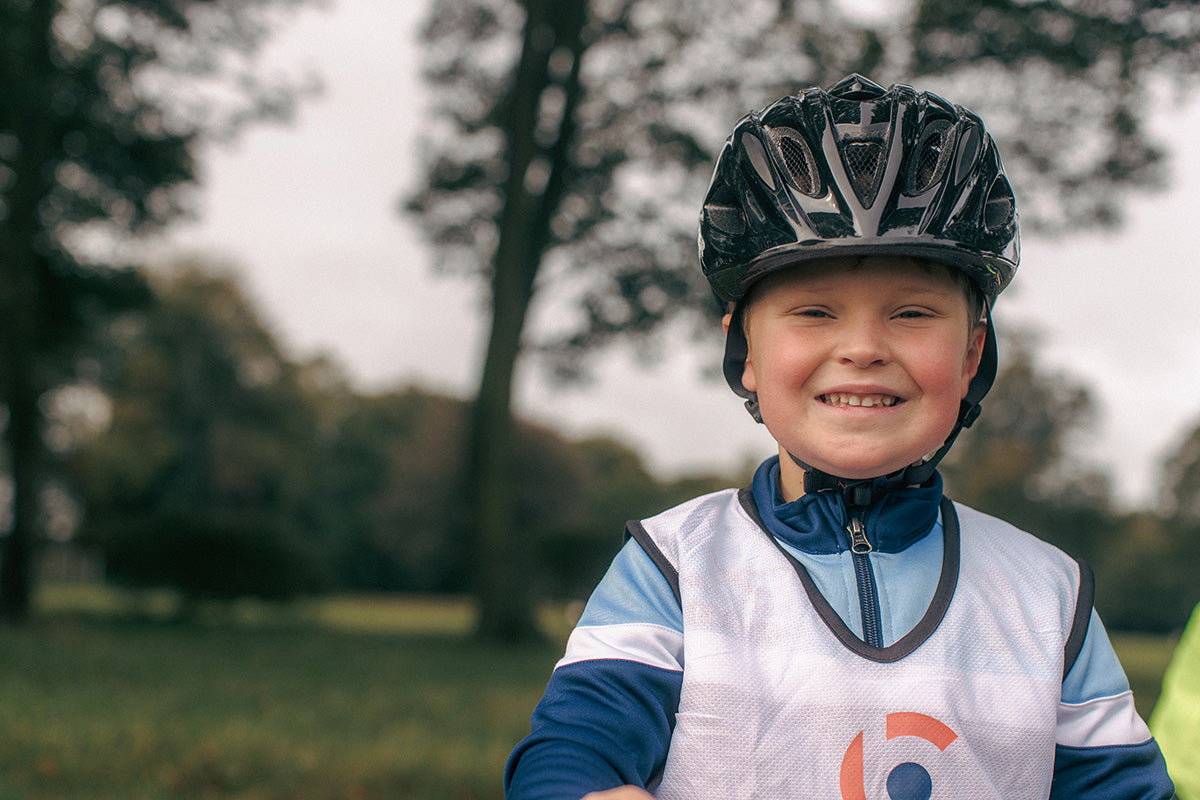helmet: (696, 72, 1020, 480)
